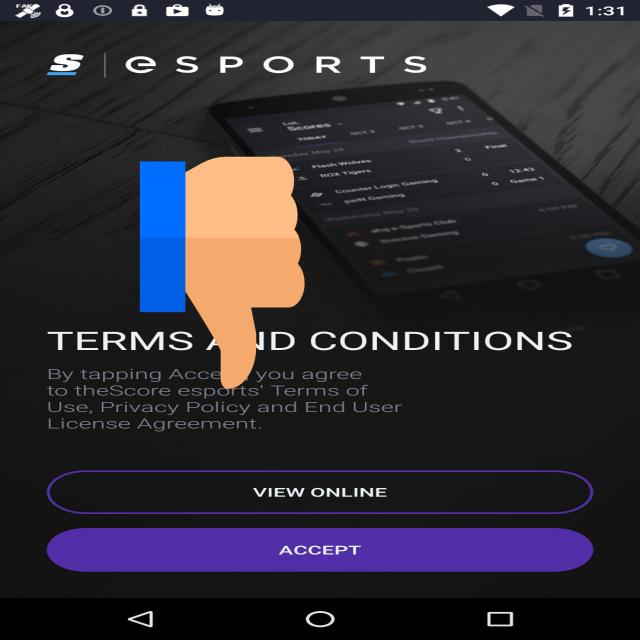obstruction: (140, 151, 304, 395)
